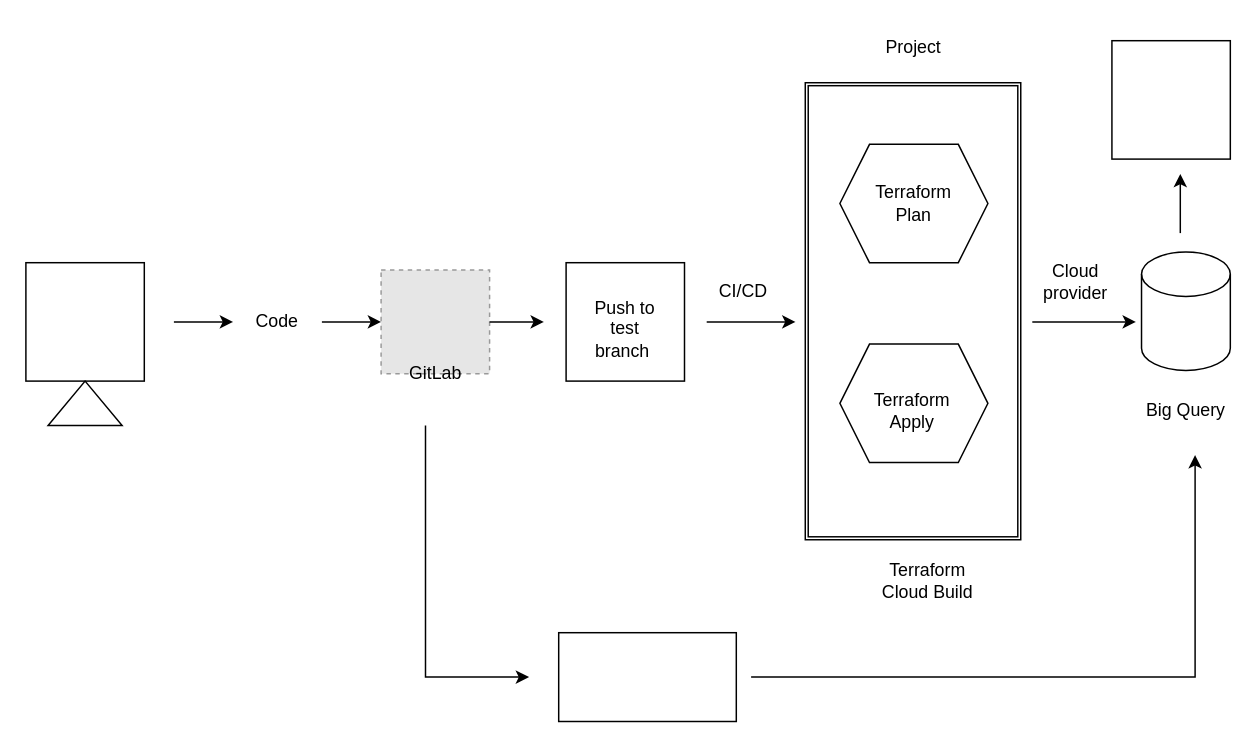
Image size: 1257x747. Some labels were removed from this diagram. Grey dashed boxes stand in for pictures. Each missing label, with the box of its shape:
IAM Groups: (557, 631, 736, 722)
Management Component: (1110, 39, 1230, 159)
